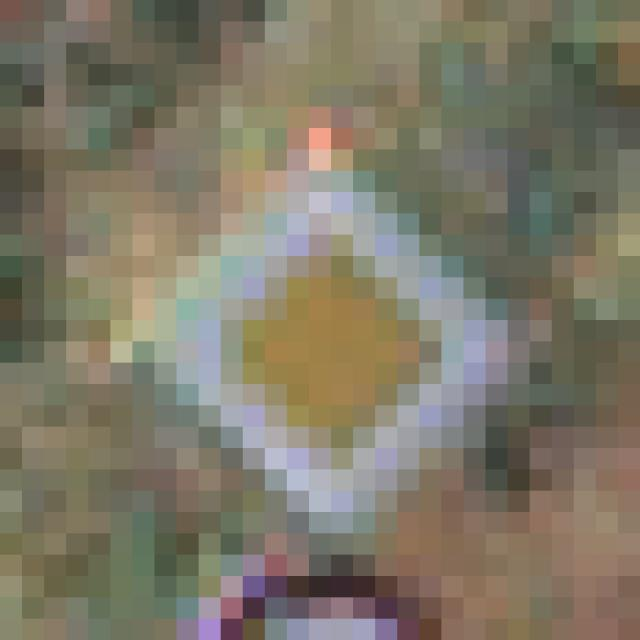Main Road: (112, 108, 509, 534)
